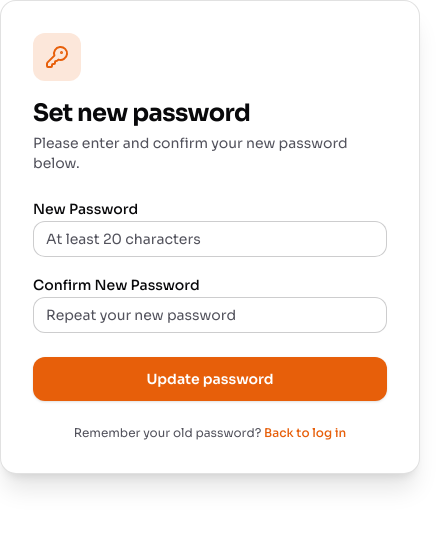
Test case: UpdatePasswordForm Component › enforces 20-character minimum password rule
# Too short password
In the password field labelled "New Password": coordinates (210, 239) [33,221,387,257], type "shortpassword123"
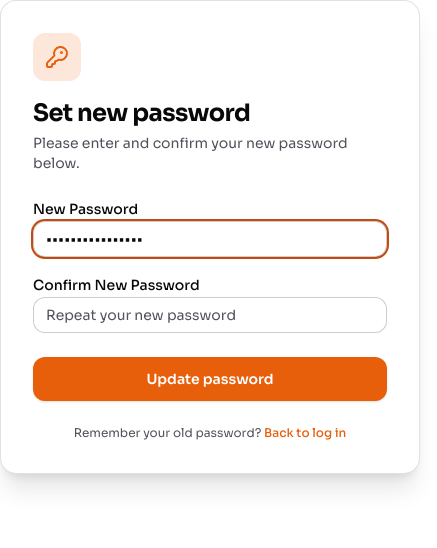
In the password field labelled "Confirm New Password": coordinates (210, 315) [33,297,387,333], type "shortpassword123"
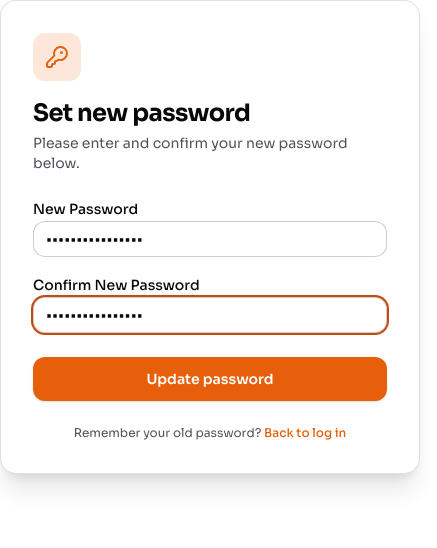
Click the button "Update password": coordinates (210, 379) [33,357,387,401]
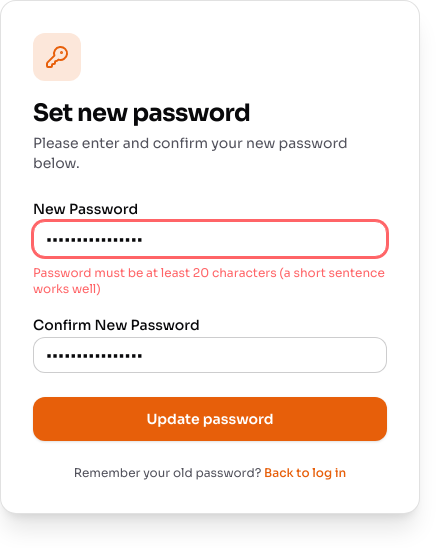
Expected: the text "Password must be at least 20 characters" is shown, [33,265,385,296]
